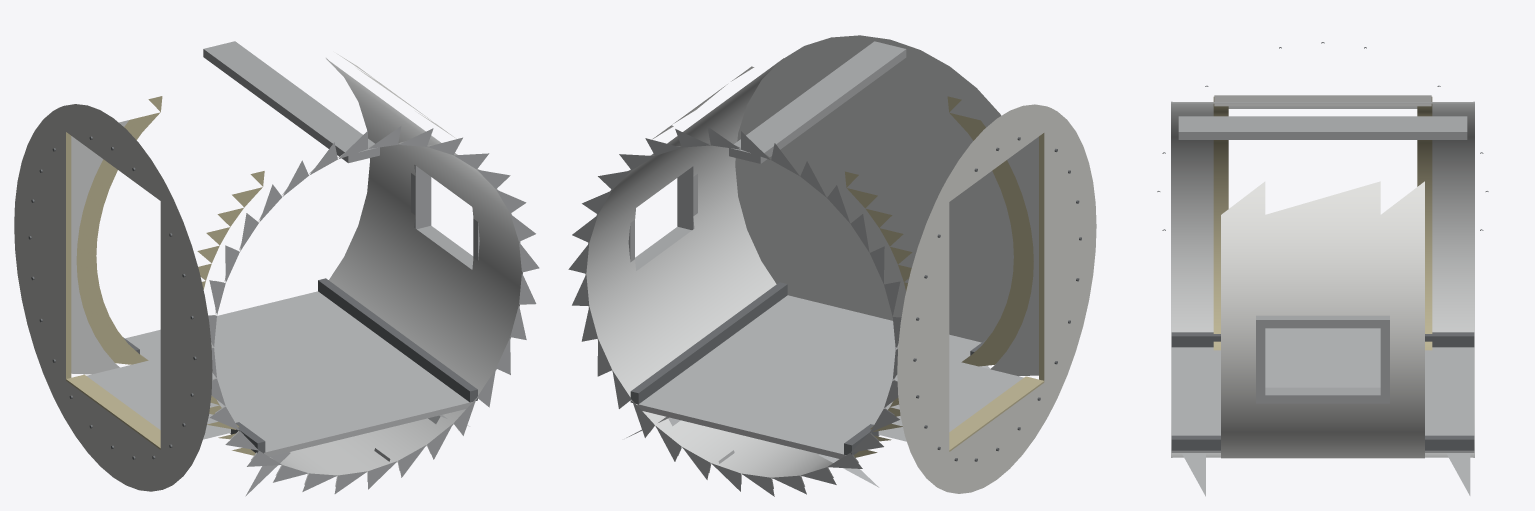
The model's file is habWindowJLf_steel_meshin.glb.
3 views of the same model, side by side, from view 1: azimuth 30°, elevation 25°; view 2: azimuth 150°, elevation 25°; view 3: azimuth 270°, elevation 25° (orthographic).
Visible parts, largest first — view 1: habWindowJLf_steel_meshin; view 2: habWindowJLf_steel_meshin; view 3: habWindowJLf_steel_meshin.
Boxes of the visible parts, bbox=[...] form: habWindowJLf_steel_meshin: bbox=[14, 41, 539, 496]; habWindowJLf_steel_meshin: bbox=[568, 35, 1096, 496]; habWindowJLf_steel_meshin: bbox=[1157, 42, 1488, 496].
Bounding box in the file's own units: 2.66 × 2.6 × 2.6.
